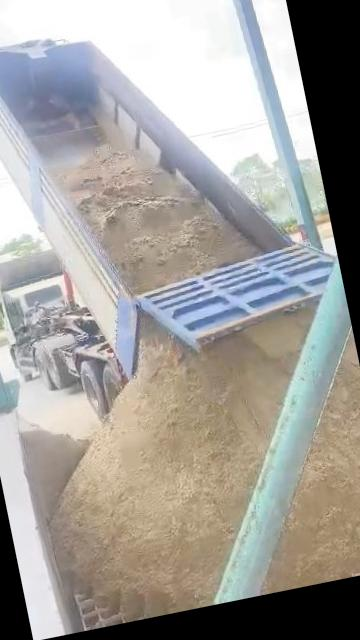sand: (52, 311, 312, 619), (57, 147, 257, 291), (266, 341, 360, 590), (22, 422, 85, 519)
